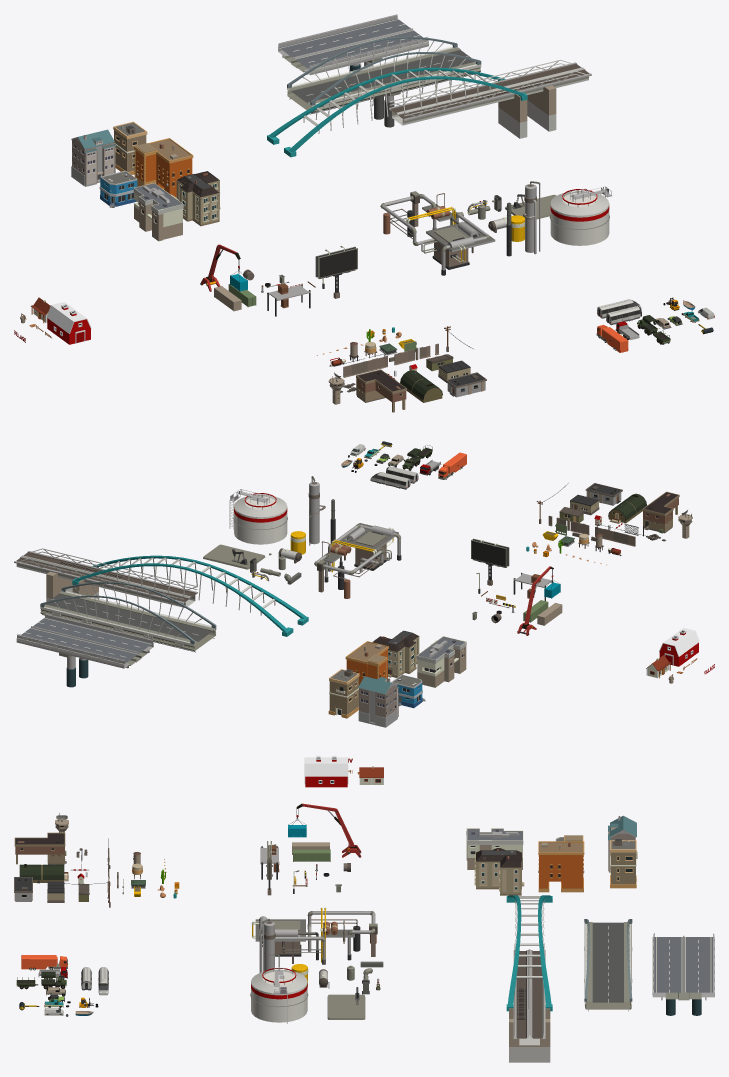
File: lowpoly_collection.FBX
3 views of the same model, one above another, from view 1: azimuth 30°, elevation 25°; view 2: azimuth 150°, elevation 25°; view 3: azimuth 270°, elevation 25° (orthographic). The views are drawn at different scales.
Parts seen in each view (by area): view 1: bridge1, bridge2, facility1, railwaybridge_arcs, bigtank1, railwaybridge_part1, railwaybridge_part2, railwaybridge_stands, bridge2_arcs, barn1, barrack5, billboard (+8 smaller); view 2: bridge2, bridge1, facility1, railwaybridge_arcs, bigtank1, railwaybridge_part1, railwaybridge_part2, bridge2_arcs, barrack5, barn1, billboard, ground_concrete (+11 smaller); view 3: bridge2, bridge1, facility1, bigtank1, railwaybridge_arcs, railwaybridge_part1, barn1, barrack5, railwaybridge_stands, building3_top, ground_concrete, railwaybridge_part2 (+9 smaller).
Part boxes in pixels (x1=…): bridge1: x1=278, y1=14, x2=428, y2=75; bridge2: x1=287, y1=46, x2=481, y2=114; facility1: x1=380, y1=191, x2=495, y2=275; railwaybridge_arcs: x1=267, y1=67, x2=527, y2=157; bigtank1: x1=549, y1=191, x2=609, y2=245; railwaybridge_part1: x1=474, y1=59, x2=591, y2=104; railwaybridge_part2: x1=389, y1=82, x2=490, y2=125; railwaybridge_stands: x1=498, y1=85, x2=556, y2=138; bridge2_arcs: x1=287, y1=36, x2=481, y2=105; barn1: x1=46, y1=302, x2=91, y2=344; barrack5: x1=356, y1=369, x2=406, y2=412; billboard: x1=315, y1=246, x2=357, y2=298; bridge2: x1=40, y1=590, x2=216, y2=652; bridge1: x1=16, y1=613, x2=153, y2=668; facility1: x1=314, y1=523, x2=401, y2=598; railwaybridge_arcs: x1=72, y1=555, x2=308, y2=636; bigtank1: x1=233, y1=494, x2=287, y2=544; railwaybridge_part1: x1=14, y1=548, x2=120, y2=589; railwaybridge_part2: x1=106, y1=568, x2=197, y2=607; bridge2_arcs: x1=40, y1=581, x2=216, y2=644; barrack5: x1=642, y1=491, x2=679, y2=533; barn1: x1=659, y1=628, x2=699, y2=666; billboard: x1=471, y1=538, x2=509, y2=585; ground_concrete: x1=203, y1=544, x2=265, y2=569; bridge2: x1=584, y1=922, x2=632, y2=1011; bridge1: x1=652, y1=933, x2=714, y2=1000; facility1: x1=251, y1=907, x2=377, y2=964; bigtank1: x1=250, y1=969, x2=308, y2=1022; railwaybridge_arcs: x1=506, y1=895, x2=552, y2=1011; railwaybridge_part1: x1=513, y1=986, x2=545, y2=1045; barn1: x1=304, y1=756, x2=348, y2=787; barrack5: x1=14, y1=832, x2=66, y2=864; railwaybridge_stands: x1=509, y1=1008, x2=550, y2=1062; building3_top: x1=538, y1=841, x2=584, y2=862; ground_concrete: x1=327, y1=994, x2=365, y2=1019; railwaybridge_part2: x1=513, y1=943, x2=545, y2=990.
Size of what is drawn, in the model's own units: 19500 by 2281 by 18584.
